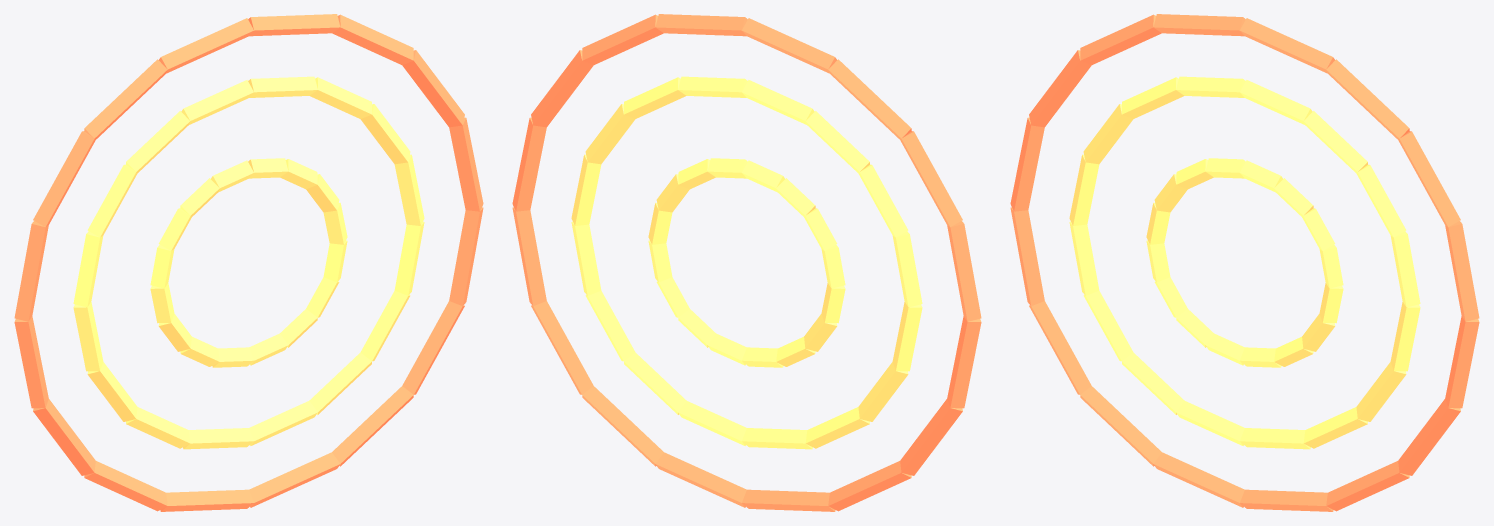
Rendered from ashbrand.glb.
3 renders of one model, left to right at view 1: azimuth 30°, elevation 25°; view 2: azimuth 150°, elevation 25°; view 3: azimuth 330°, elevation 25°, orthographic.
Parts seen in each view (by area): view 1: Brand of Ash dimensional effect.001; view 2: Brand of Ash dimensional effect.001; view 3: Brand of Ash dimensional effect.001.
Boxes of the visible parts, x1=… form: Brand of Ash dimensional effect.001: x1=14, y1=14, x2=483, y2=511; Brand of Ash dimensional effect.001: x1=512, y1=14, x2=981, y2=511; Brand of Ash dimensional effect.001: x1=1010, y1=14, x2=1479, y2=511.
Bounding box in the file's own units: 1.83 × 1.83 × 0.07.
